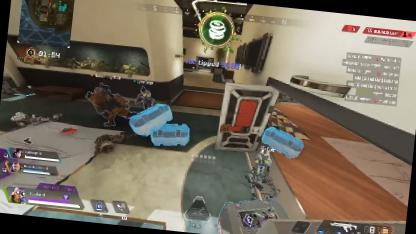Target: (246, 148, 285, 201), (86, 84, 130, 126), (90, 128, 132, 156), (8, 108, 58, 130), (136, 85, 154, 108)
